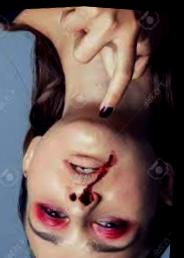Fire: (81, 152, 117, 204)
